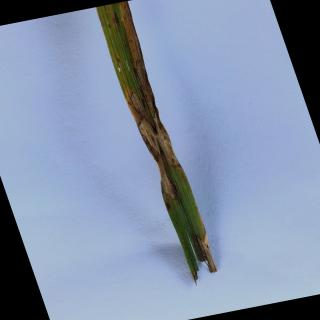Hawar-Daun: (118, 94, 197, 202), (118, 0, 151, 89), (197, 233, 218, 273)
